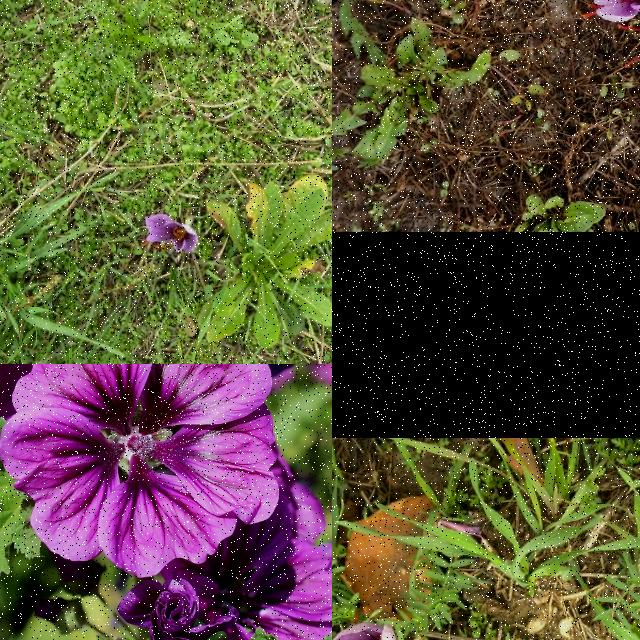flower: (332, 620, 444, 640), (146, 215, 198, 255), (616, 8, 640, 75), (582, 0, 640, 22)
